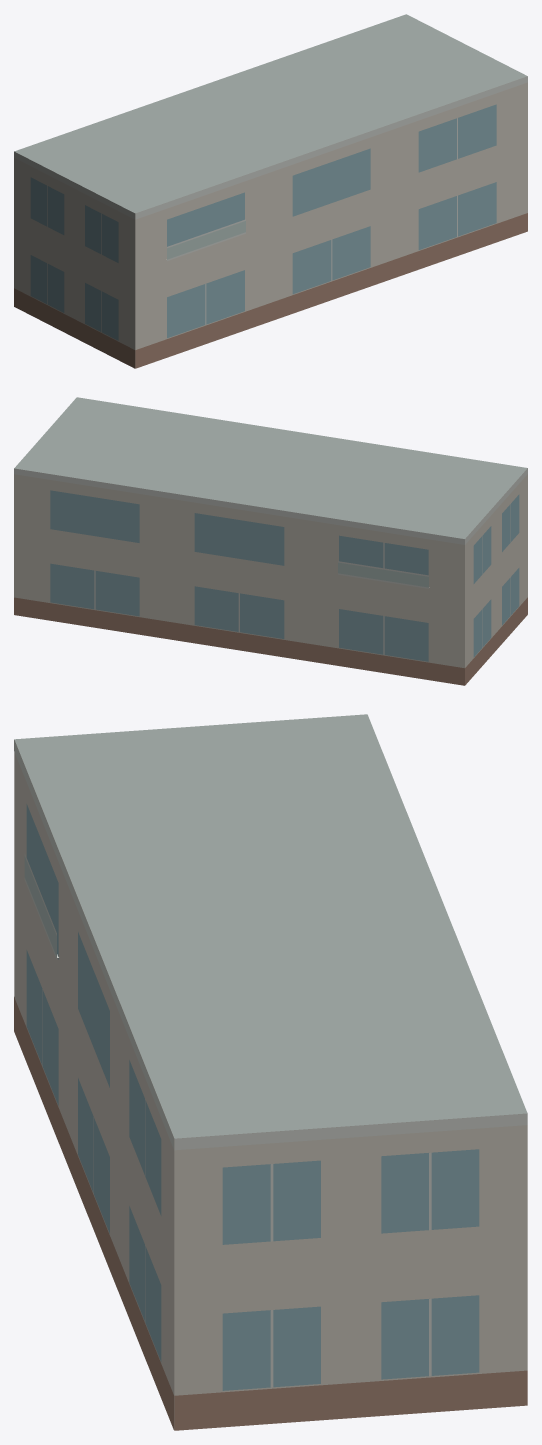
The model's file is survey-upis-32708470.glb.
The picture shows the model from 3 angles, top to bottom: view 1: azimuth 30°, elevation 25°; view 2: azimuth 150°, elevation 25°; view 3: azimuth 270°, elevation 25°; orthographic projection. The views are drawn at different scales.
Parts seen in each view (by area): view 1: survey-upis-32708470.tmp; view 2: survey-upis-32708470.tmp; view 3: survey-upis-32708470.tmp.
Part boxes in pixels (x1,y1,x2,y2): survey-upis-32708470.tmp: [14, 14, 527, 368]; survey-upis-32708470.tmp: [14, 397, 527, 685]; survey-upis-32708470.tmp: [14, 714, 527, 1430].
Bounding box in the file's own units: 19.02 × 6.1 × 9.73.
